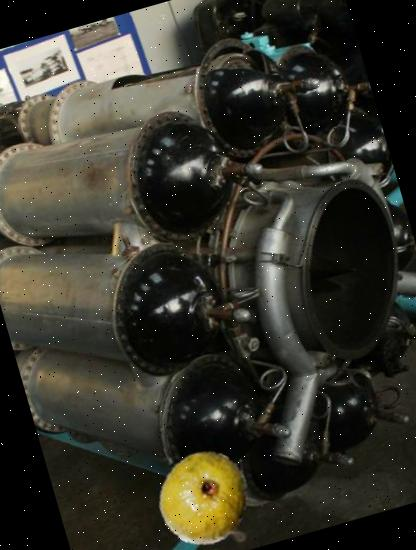Guava: (144, 438, 263, 550)
